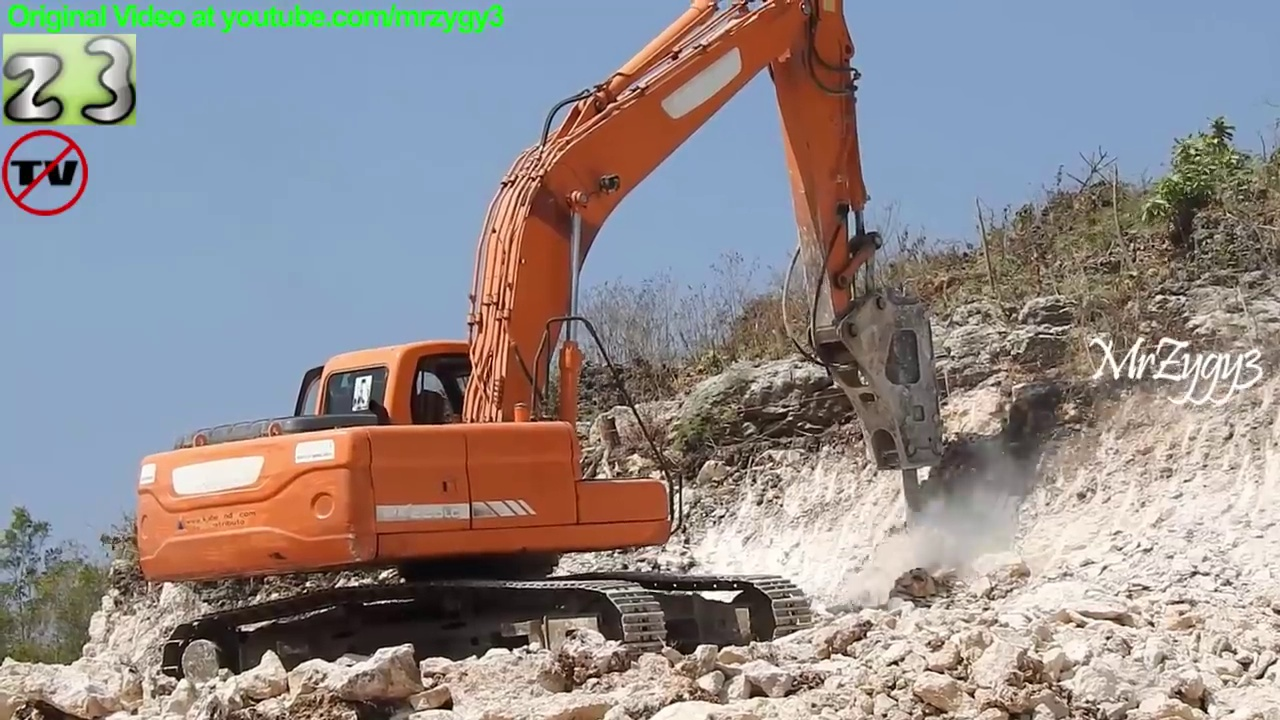excavator breaker: (131, 1, 951, 693)
